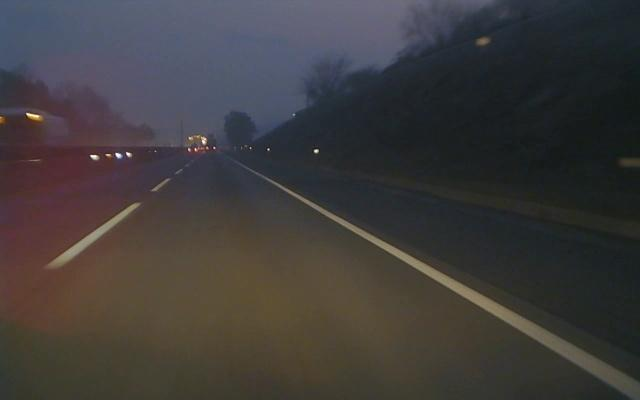lane: (241, 164, 640, 399), (45, 168, 181, 269)
